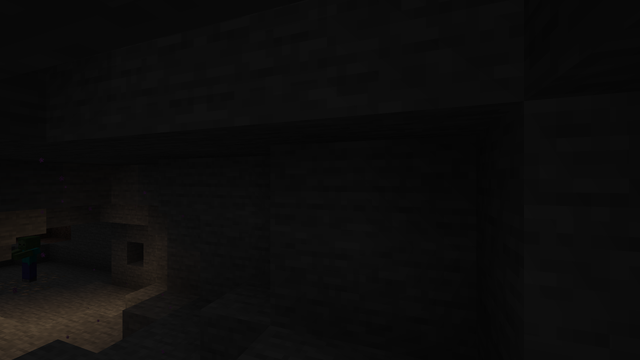zombies: (16, 236, 41, 283)
